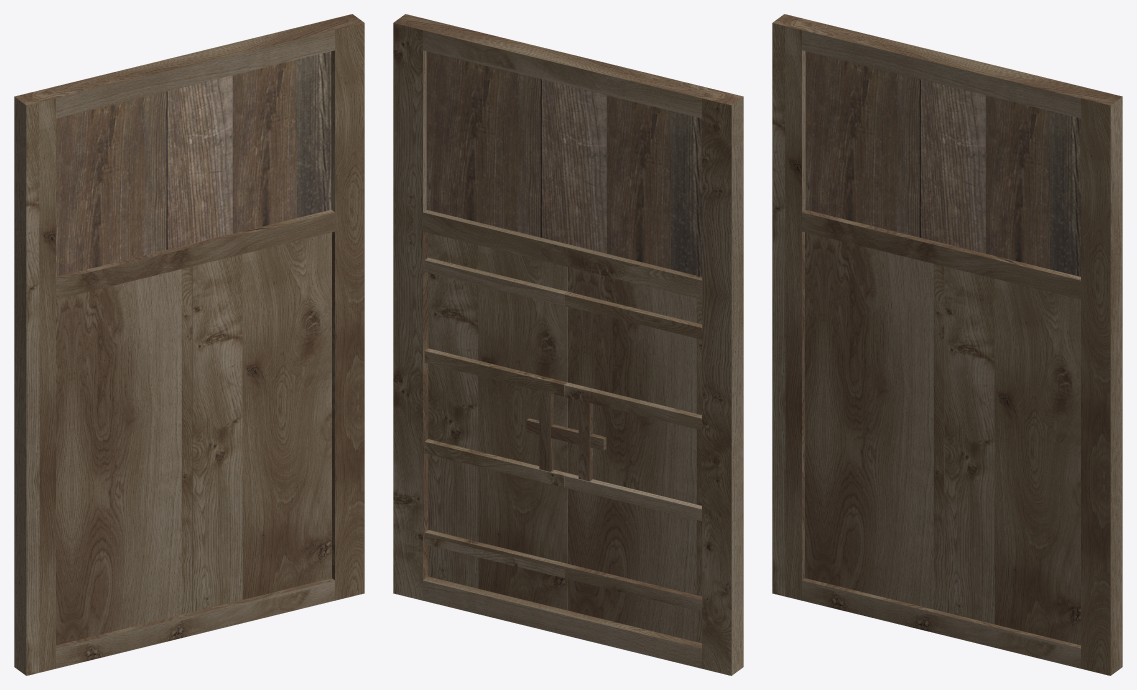
The model's file is SM_Sun_Toilet_Wall_J.fbx.
The picture shows the model from 3 angles, left to right: view 1: azimuth 30°, elevation 25°; view 2: azimuth 150°, elevation 25°; view 3: azimuth 330°, elevation 25°; orthographic projection.
Parts seen in each view (by area): view 1: SM_Sun_Toilet_Wall_J; view 2: SM_Sun_Toilet_Wall_J; view 3: SM_Sun_Toilet_Wall_J.
Boxes of the visible parts, x1=… form: SM_Sun_Toilet_Wall_J: x1=14, y1=14, x2=364, y2=675; SM_Sun_Toilet_Wall_J: x1=393, y1=14, x2=743, y2=675; SM_Sun_Toilet_Wall_J: x1=772, y1=14, x2=1122, y2=675.
Size of the model in its own units: 160 by 258 by 10.
